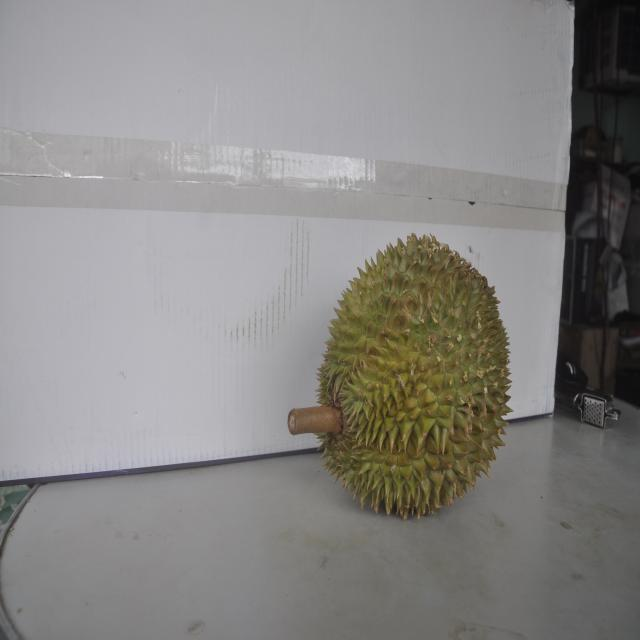mature: (317, 230, 511, 520)
